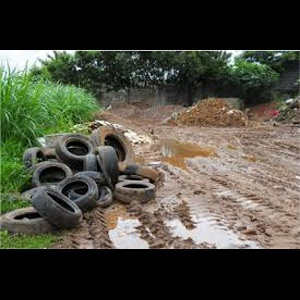tire: (91, 122, 135, 176), (30, 188, 82, 229), (1, 205, 58, 236), (57, 175, 99, 213), (56, 132, 96, 167), (31, 159, 73, 190), (113, 182, 157, 204)
